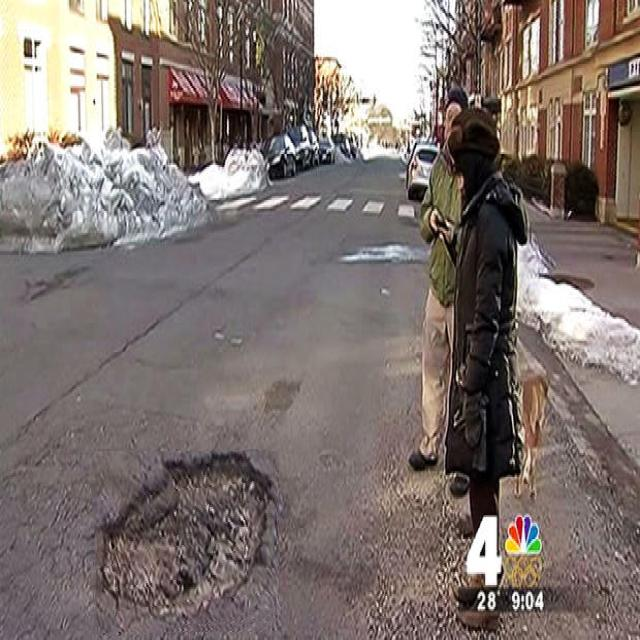Pothole: (92, 451, 279, 634)
